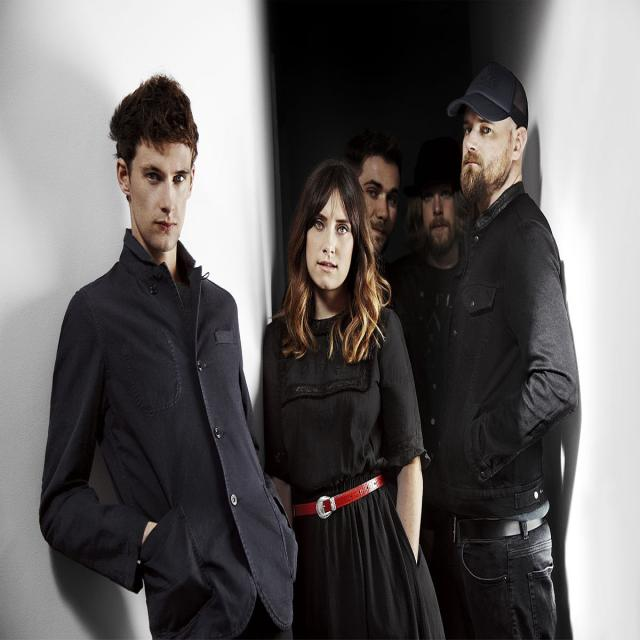body: (36, 75, 310, 639), (258, 159, 450, 639), (438, 60, 581, 639), (389, 146, 477, 487), (342, 133, 419, 414)
